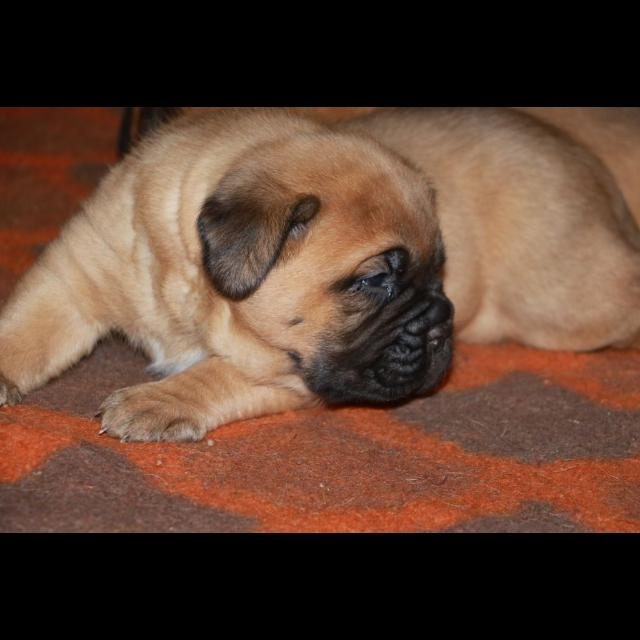dogue_de_bordeaux: (2, 109, 639, 446)
